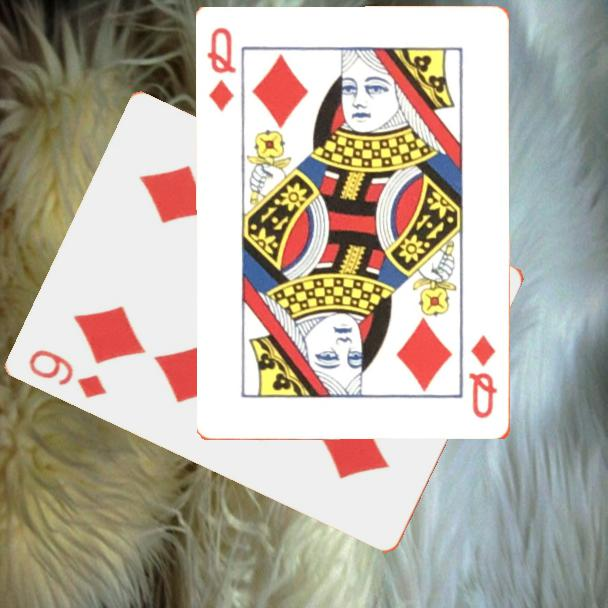d09: (25, 346, 110, 401)
d12: (203, 24, 239, 115), (466, 332, 501, 422)
